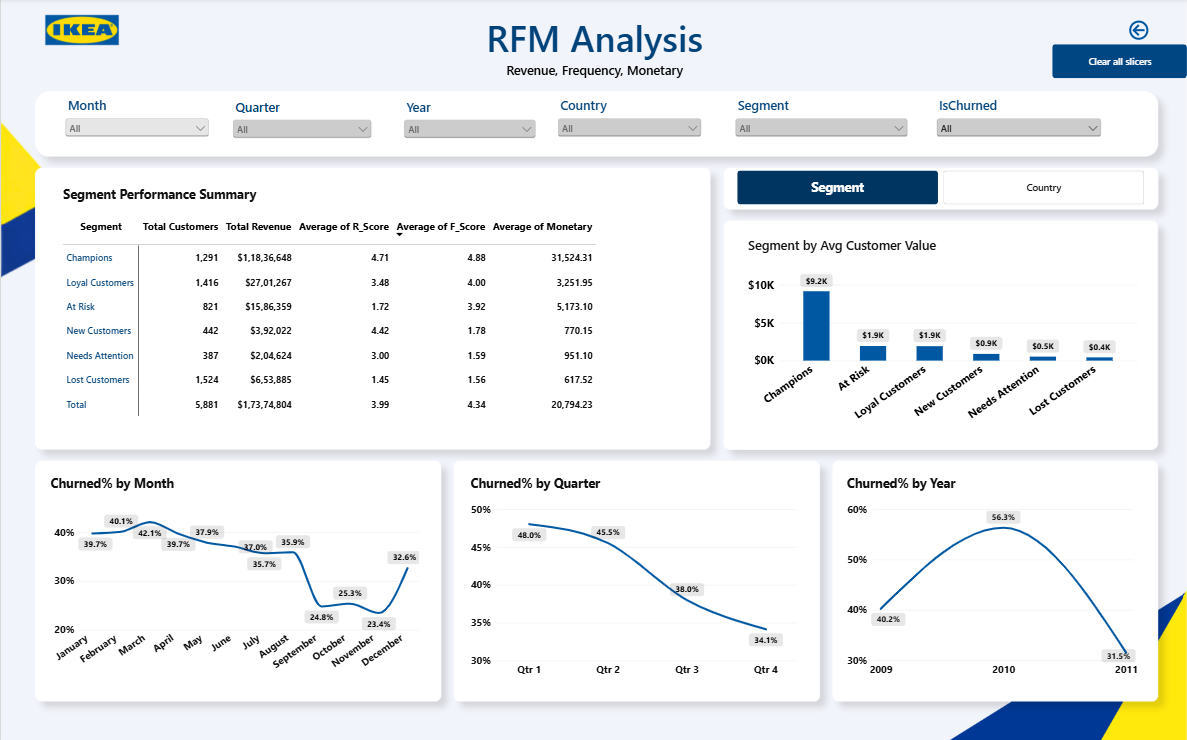

Layout of this report page (visuals, bound fields, positions):
{"tool":"powerbi","page":{"name":"RFM Analysis","canvas":[1750,1100],"ordinal":2},"visuals":[{"type":"columnChart","title":"Country by Avg Customer Value","fields":{"Category":["Sheet1.Country"],"Y":["Sheet1.Avg Customer Value"]},"box":[1086,340,606,300],"z":0,"group":"g1"},{"type":"lineChart","title":"Churned% by Year","fields":{"Category":["Sheet1.InvoiceMonth.Variation.Date Hierarchy.Year"],"Y":["Sheet1.Churned %"]},"box":[1231.2,687.5,460.8,333.6],"z":0},{"type":"pivotTable","title":"Country Performance Summary","fields":{"Rows":["Sheet1.Country"],"Values":["Sheet1.Total Customers","Sheet1.Total Revenue","Avg(Sheet1.R_Score)","Avg(Sheet1.F_Score)","Avg(Sheet1.M_Score)"]},"box":[90,280,932,360],"z":1000,"group":"g1"},{"type":"lineChart","title":"Churned% by Quarter","fields":{"Category":["Sheet1.InvoiceMonth.Variation.Date Hierarchy.Quarter"],"Y":["Sheet1.Churned %"]},"box":[676,688,514,334],"z":1000},{"type":"slicer","fields":{"Values":["Sheet1.InvoiceDate.Variation.Date Hierarchy.Month"]},"box":[90.3,145.6,221.2,71.9],"z":2000},{"type":"lineChart","title":"Churned% by Month","fields":{"Category":["Sheet1.InvoiceMonth.Variation.Date Hierarchy.Month"],"Y":["Sheet1.Churned %"]},"box":[57.1,687.5,575.1,333.6],"z":3000},{"type":"slicer","fields":{"Values":["Sheet1.InvoiceDate.Variation.Date Hierarchy.Quarter"]},"box":[337.3,147.5,213.8,75.6],"z":4000},{"type":"slicer","fields":{"Values":["Sheet1.InvoiceDate.Variation.Date Hierarchy.Year"]},"box":[589.8,147.5,203,150],"z":5000},{"type":"slicer","fields":{"Values":["Sheet1.Country"]},"box":[816.5,145.6,221,150],"z":6000},{"type":"slicer","fields":{"Values":["Sheet1.Segment"]},"box":[1078.3,145.6,263.6,232.2],"z":7000},{"type":"slicer","fields":{"Values":["Sheet1.IsChurned"]},"box":[1375,145.6,252.5,300.4],"z":8000},{"type":"bookmarkNavigator","box":[1086,254,600,50],"z":10000},{"type":"image","box":[38,0,162,94],"z":12000},{"type":"textbox","box":[455,22,840,96],"z":13000},{"type":"actionButton","box":[1628,28,100,40],"z":14000},{"type":"actionButton","box":[1550,68,200,50],"z":15000},{"type":"group","id":"g1","title":"Country","box":[90,280,1602,360],"z":16000}]}

Visuals, with their boxes in screenshot pixels (x1, y1, x2, y2), scaled from the page's 1750x1100 canvas onto the 1187x740 screenshot:
"Country by Avg Customer Value" columnChart: 737:229:1148:431
"Churned% by Year" lineChart: 835:462:1148:687
"Country Performance Summary" pivotTable: 61:188:693:431
"Churned% by Quarter" lineChart: 459:463:807:688
slicer - Sheet1.InvoiceDate.Variation.Date Hierarchy.Month: 61:98:211:146
"Churned% by Month" lineChart: 39:462:429:687
slicer - Sheet1.InvoiceDate.Variation.Date Hierarchy.Quarter: 229:99:374:150
slicer - Sheet1.InvoiceDate.Variation.Date Hierarchy.Year: 400:99:538:200
slicer - Sheet1.Country: 554:98:704:199
slicer - Sheet1.Segment: 731:98:910:254
slicer - Sheet1.IsChurned: 933:98:1104:300
bookmarkNavigator: 737:171:1144:205
image: 26:0:136:63
textbox: 309:15:878:79
actionButton: 1104:19:1172:46
actionButton: 1051:46:1186:79
"Country" group: 61:188:1148:431
